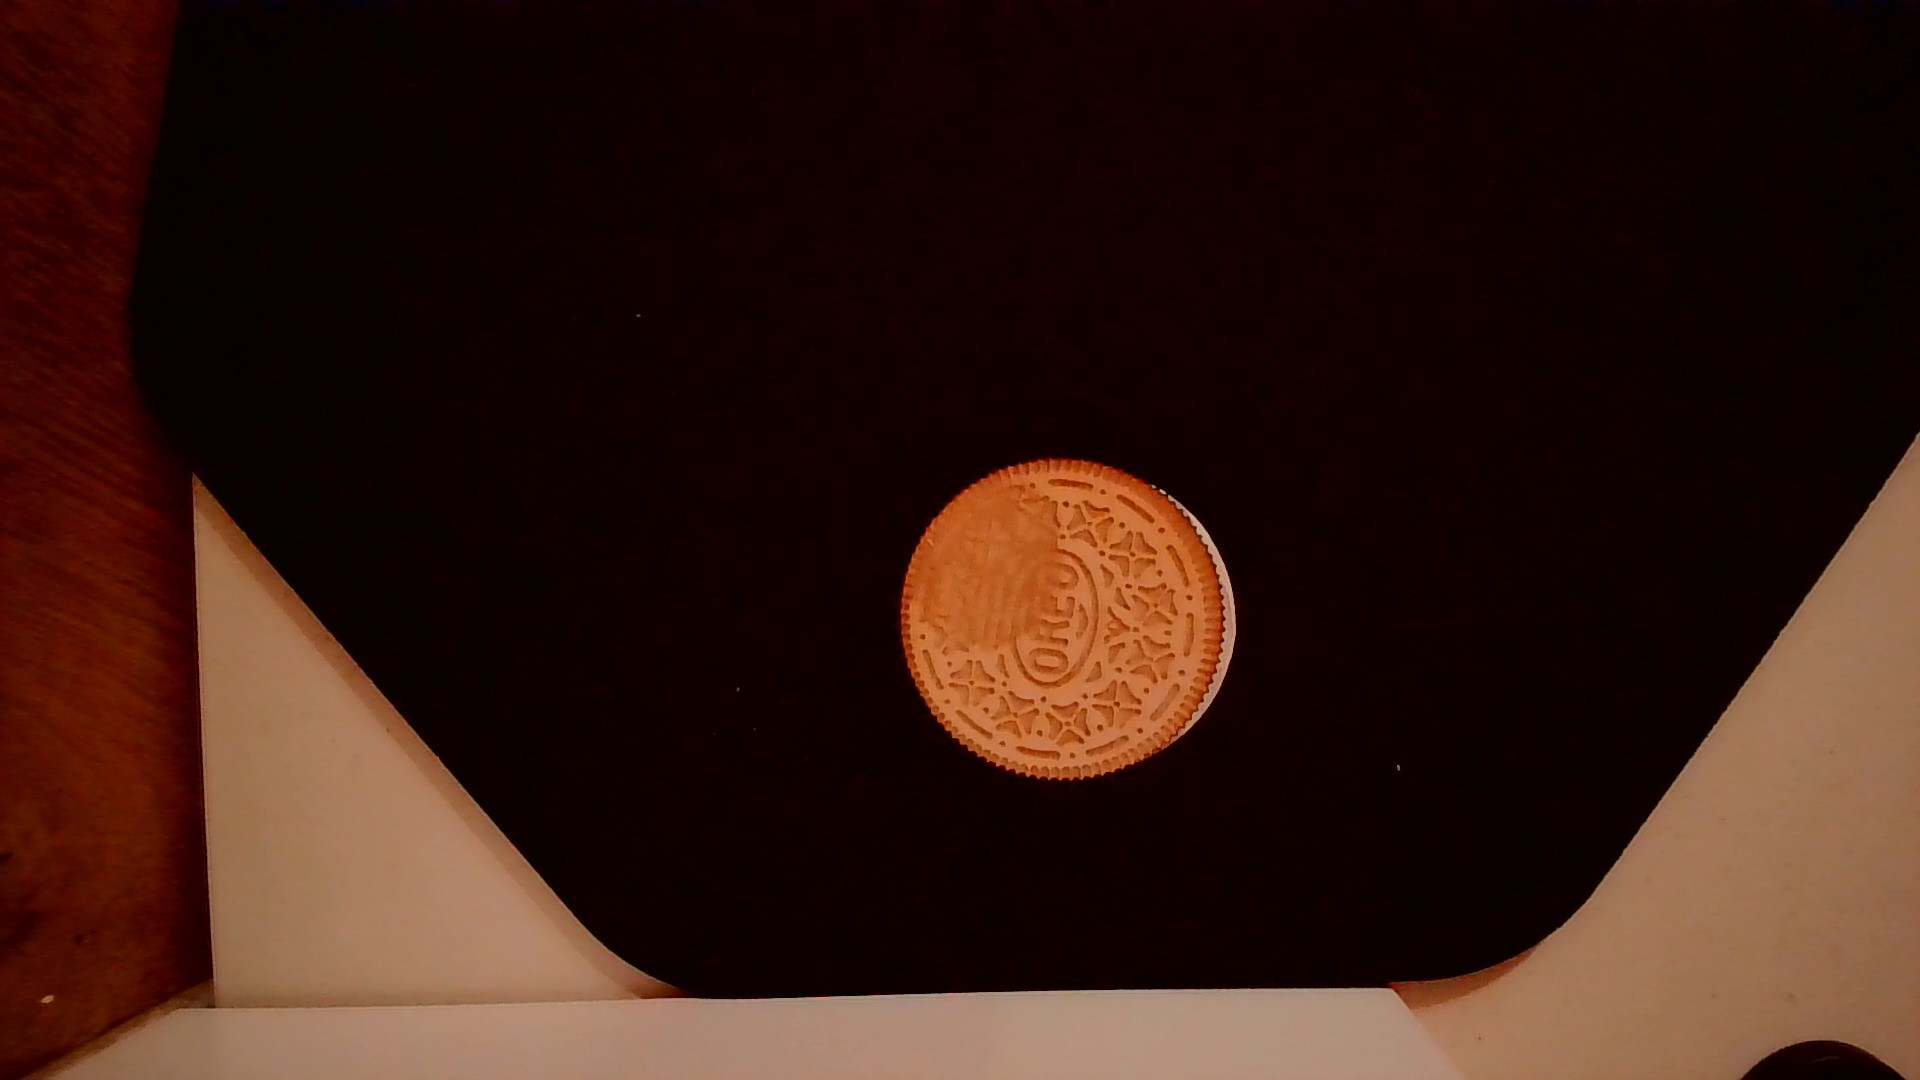Décalé: (1139, 475, 1244, 761)
Effacé: (901, 469, 1065, 657)
Oréo: (891, 442, 1240, 790)
